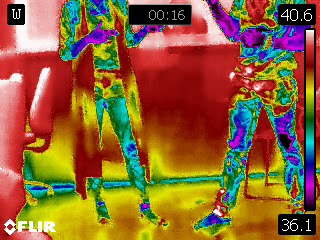human: (55, 1, 174, 228), (193, 1, 305, 232)
